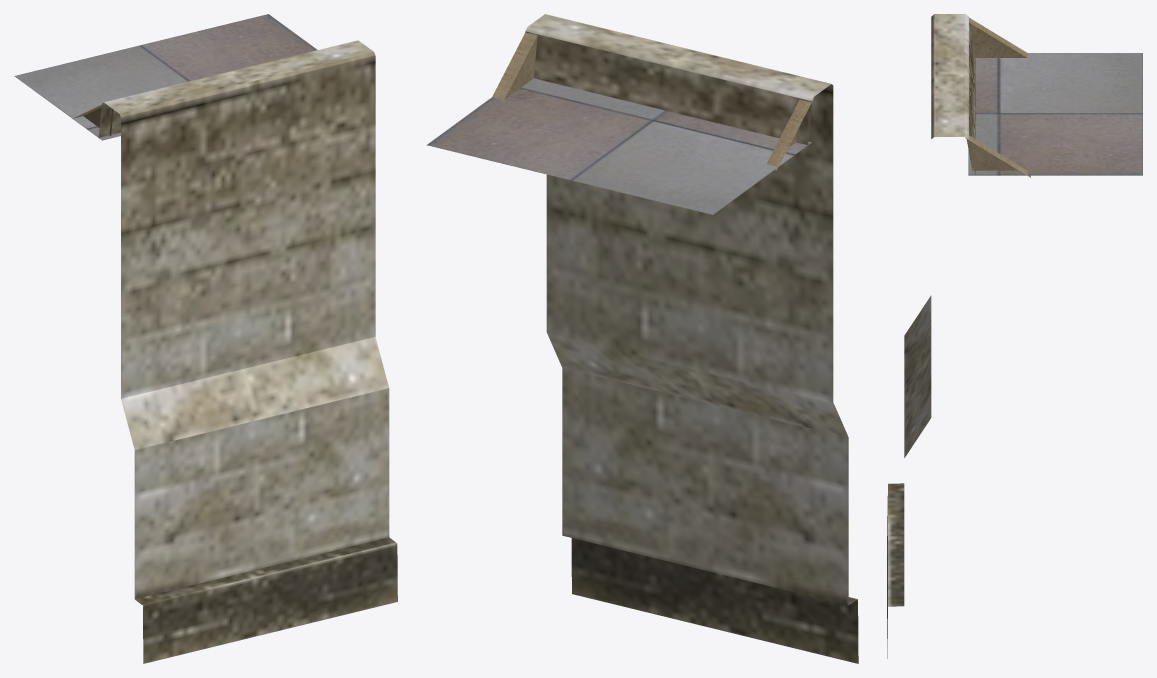
The model's file is castle_wall.fbx.
The picture shows the model from 3 angles, left to right: view 1: azimuth 30°, elevation 25°; view 2: azimuth 150°, elevation 25°; view 3: azimuth 270°, elevation 25°; orthographic projection. The views are drawn at different scales.
Visible parts, largest first — view 1: pasted__castle-wall; view 2: pasted__castle-wall; view 3: pasted__castle-wall.
Boxes of the visible parts, box(x1,y1,x2,y2) form: pasted__castle-wall: box(14, 14, 397, 663); pasted__castle-wall: box(426, 14, 858, 663); pasted__castle-wall: box(887, 14, 1142, 658).
Bounding box in the file's own units: 200 × 400 × 176.
3 materials, 3 textured.
